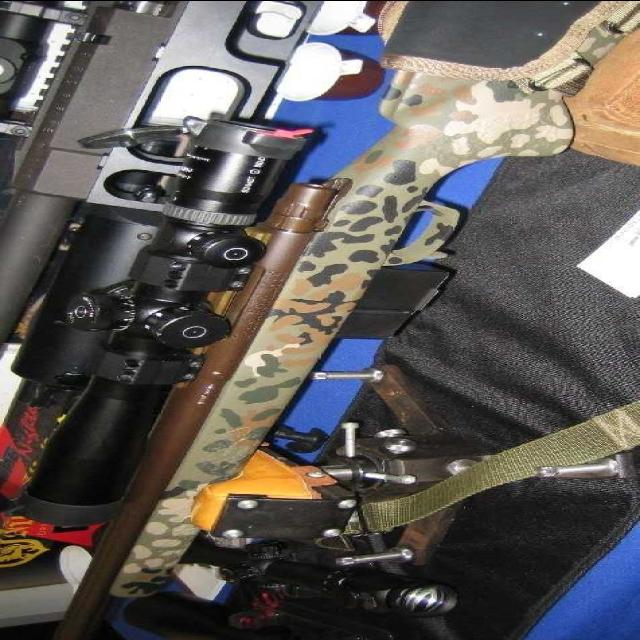heavyweapon: (65, 19, 609, 640)
